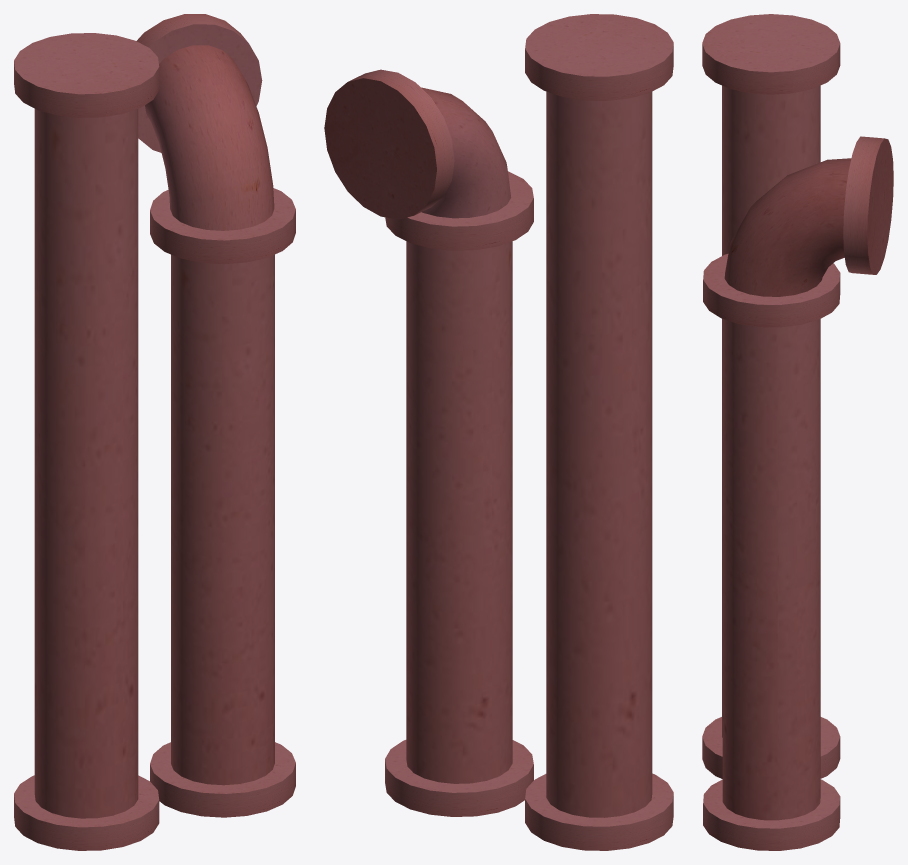
File: PipeStanding.fbx
3 renders of one model, left to right at view 1: azimuth 30°, elevation 25°; view 2: azimuth 150°, elevation 25°; view 3: azimuth 270°, elevation 25°, orthographic. The views are drawn at different scales.
Parts seen in each view (by area): view 1: PipeCore (×2), Elbow1, FloorCollar (×2), RoofCollar, ElbowCollar, WallCollar; view 2: PipeCore (×2), WallCollar, FloorCollar (×2), RoofCollar, Elbow1, ElbowCollar; view 3: PipeCore (×2), Elbow1, RoofCollar, FloorCollar (×2), WallCollar, ElbowCollar.
Part boxes in pixels (x1,y1,x2,y2): PipeCore (×2): (34, 109, 274, 818); Elbow1: (145, 45, 274, 230); FloorCollar (×2): (14, 742, 295, 850); RoofCollar: (14, 33, 159, 117); ElbowCollar: (150, 188, 295, 264); WallCollar: (136, 14, 262, 152); PipeCore (×2): (406, 91, 652, 817); WallCollar: (324, 69, 454, 219); FloorCollar (×2): (385, 740, 673, 850); RoofCollar: (525, 14, 673, 100); Elbow1: (421, 87, 511, 218); ElbowCollar: (385, 171, 533, 250); PipeCore (×2): (722, 85, 820, 820); Elbow1: (724, 158, 851, 296); RoofCollar: (702, 14, 840, 94); FloorCollar (×2): (702, 717, 840, 850); WallCollar: (843, 136, 893, 274); ElbowCollar: (703, 254, 840, 327).
Bounding box in the file's own units: 1.56 × 4.01 × 0.9707.
1 material, 1 textured.
